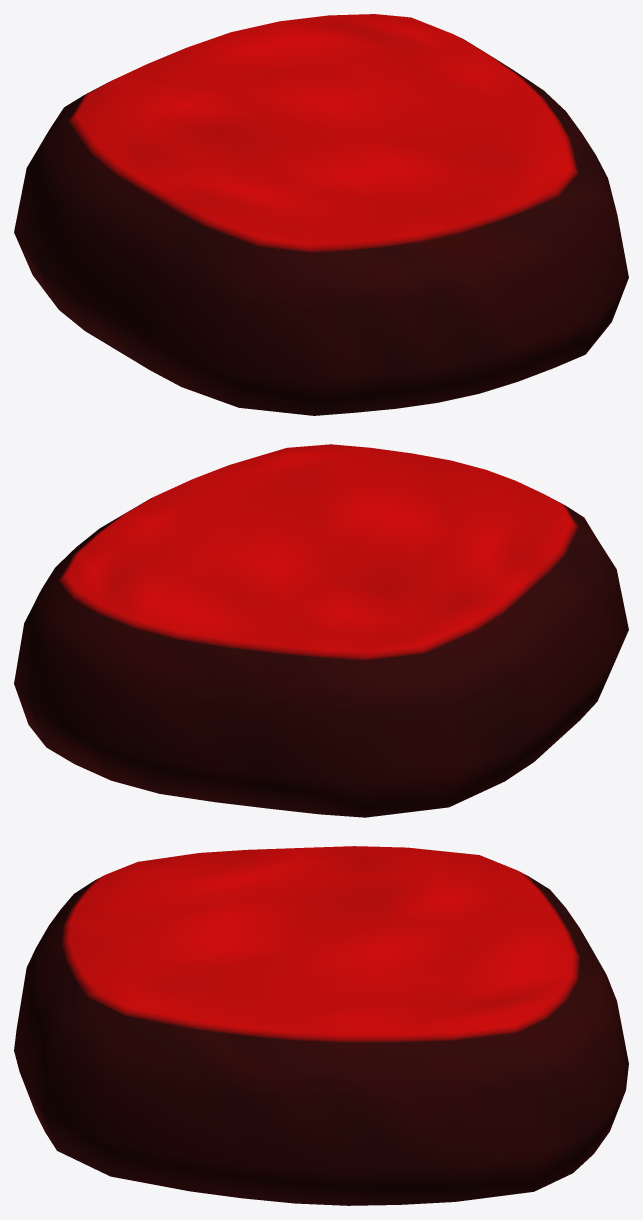
Rendered from geology-landforms-iceplateautiny_v5.fbx.
The picture shows the model from 3 angles, top to bottom: view 1: azimuth 30°, elevation 25°; view 2: azimuth 150°, elevation 25°; view 3: azimuth 270°, elevation 25°; orthographic projection. The views are drawn at different scales.
Visible parts, largest first — view 1: IcePlateauTiny_v5; view 2: IcePlateauTiny_v5; view 3: IcePlateauTiny_v5.
Part boxes in pixels (box(x1,y1,x2,y2)): IcePlateauTiny_v5: box(14, 14, 628, 415); IcePlateauTiny_v5: box(14, 444, 628, 817); IcePlateauTiny_v5: box(14, 846, 628, 1205).
Bounding box in the file's own units: 50.58 × 15.04 × 54.8.
